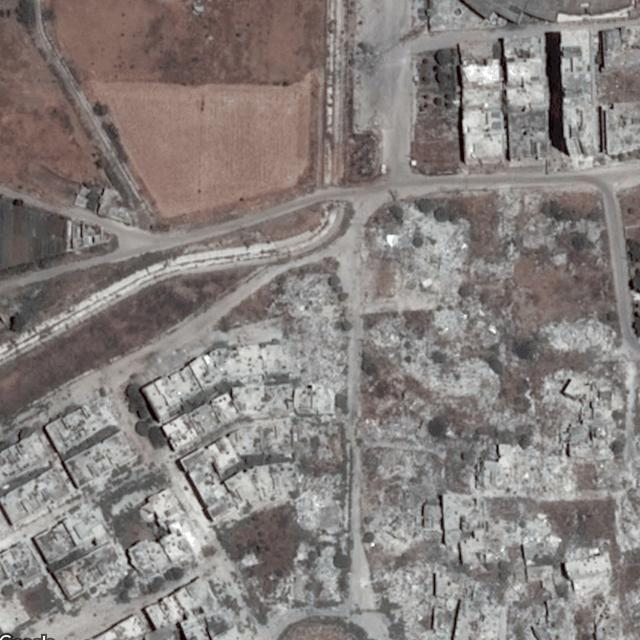damaged_building: (364, 186, 603, 448), (355, 410, 447, 553), (265, 272, 348, 393), (264, 536, 341, 607), (370, 562, 438, 636), (538, 310, 622, 360), (508, 446, 576, 492), (294, 473, 342, 533), (293, 418, 341, 459), (518, 513, 558, 558), (594, 450, 630, 488)
